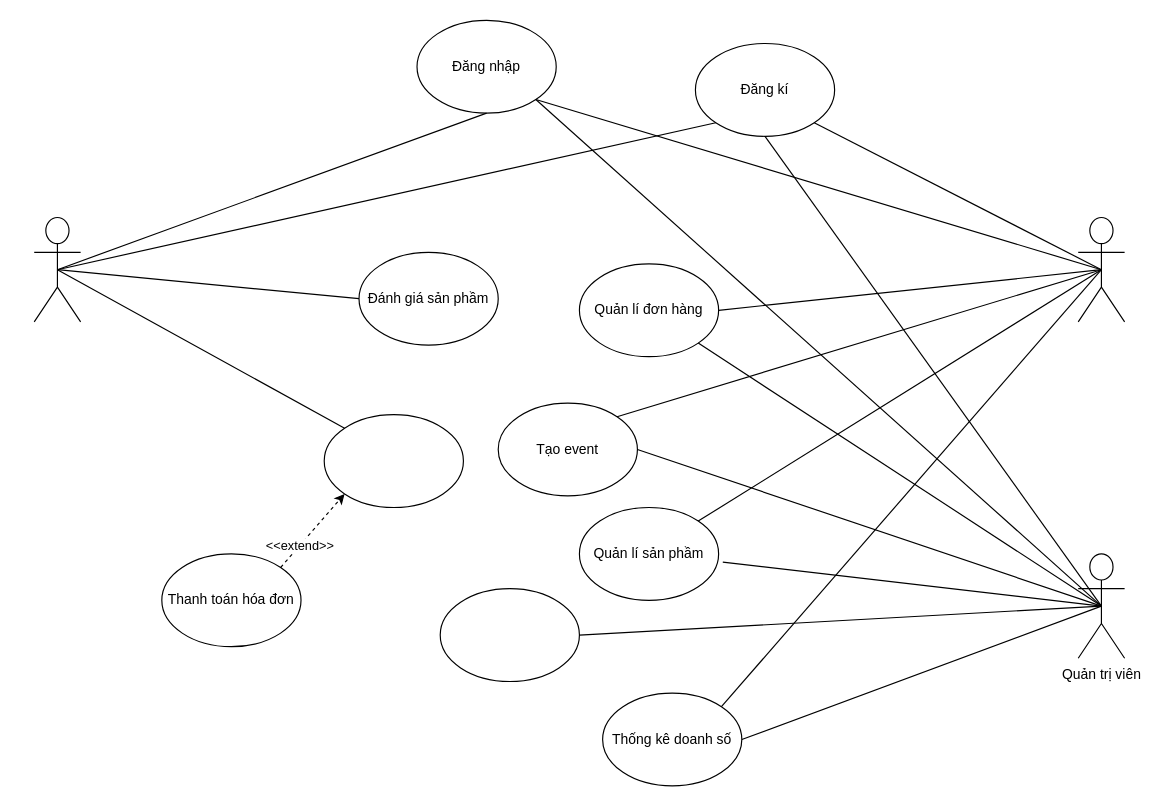
Some shapes in this 1161 by 806 pixel diagram are drawn without their labels. Each missing label, with the centre of its shape:
"Khách hàng" goes at (57,269).
"Nhân viên" goes at (1101,269).
"Quản lí khách hàng" goes at (509,635).
"Đặt sách" goes at (393,460).
